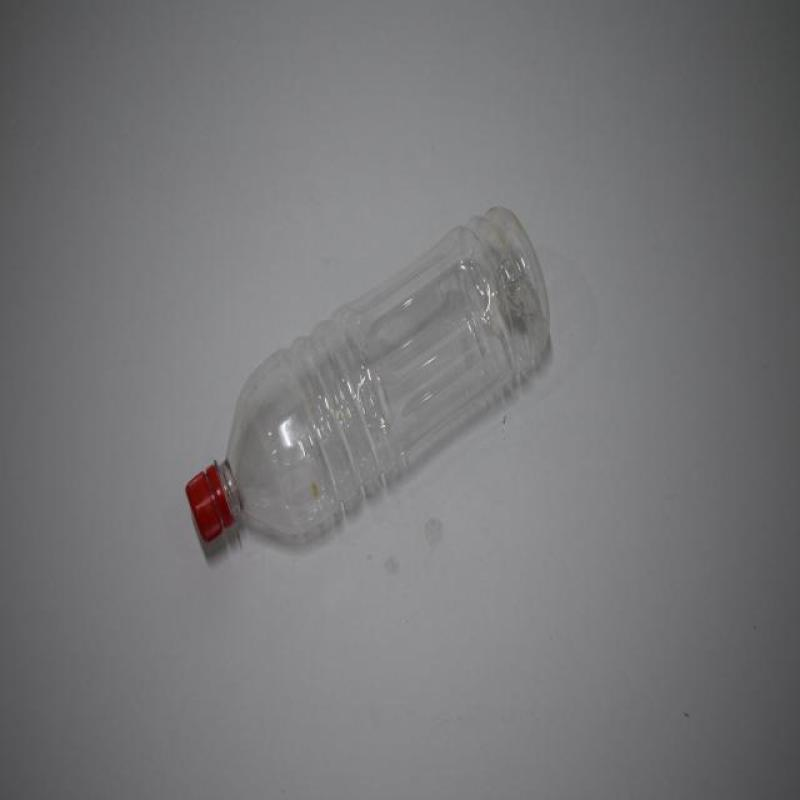botella: (183, 204, 549, 548)
